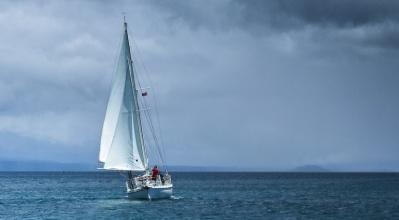fanchuan: (95, 8, 170, 199)
